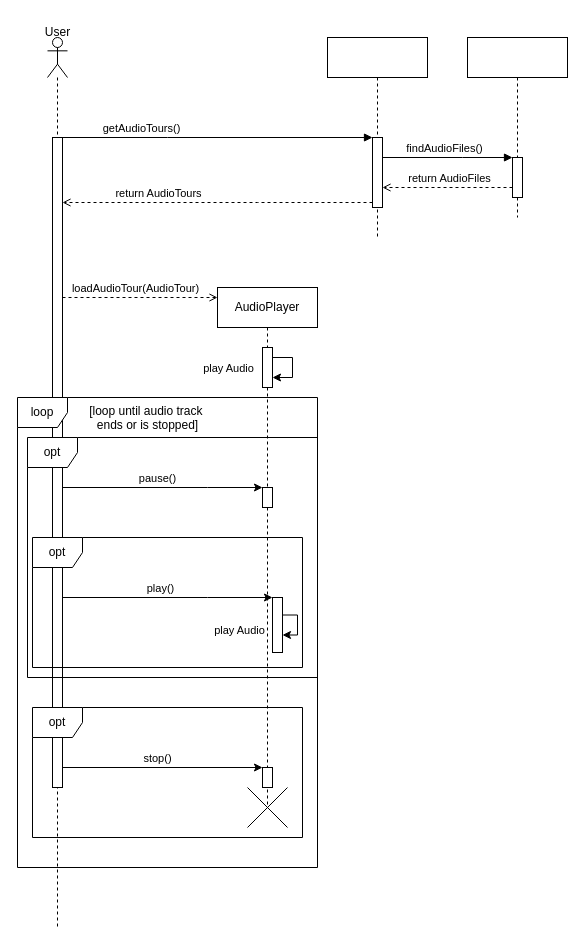
This 585x945 diagram has some shape labels left out. The shapes that lost their labels are listed below. From the top down, each one's centre as x and y in pixels, then its label:
point (377, 137): Landmark
point (517, 127): Database
